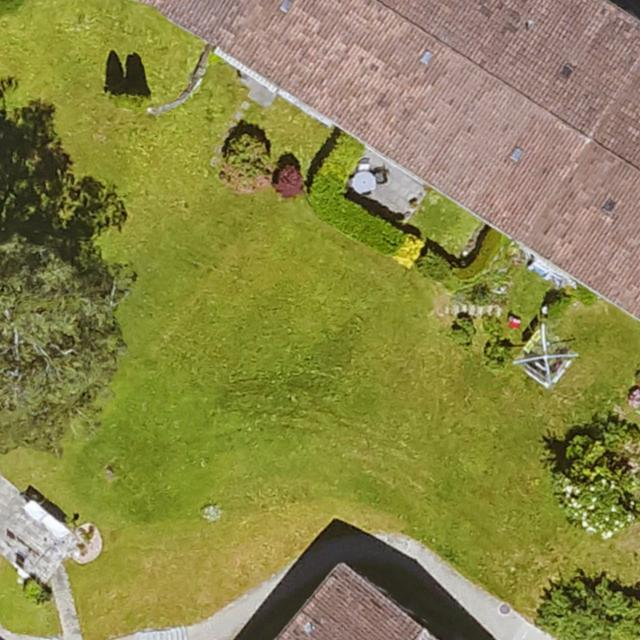tree: (0, 249, 118, 454), (556, 435, 640, 532), (225, 131, 267, 176), (108, 84, 152, 112)
